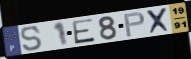1: (52, 20, 70, 48)
8: (97, 15, 119, 41)
E: (71, 17, 97, 46)
P: (122, 11, 147, 38)
S: (20, 25, 44, 53)
X: (146, 6, 173, 35)
